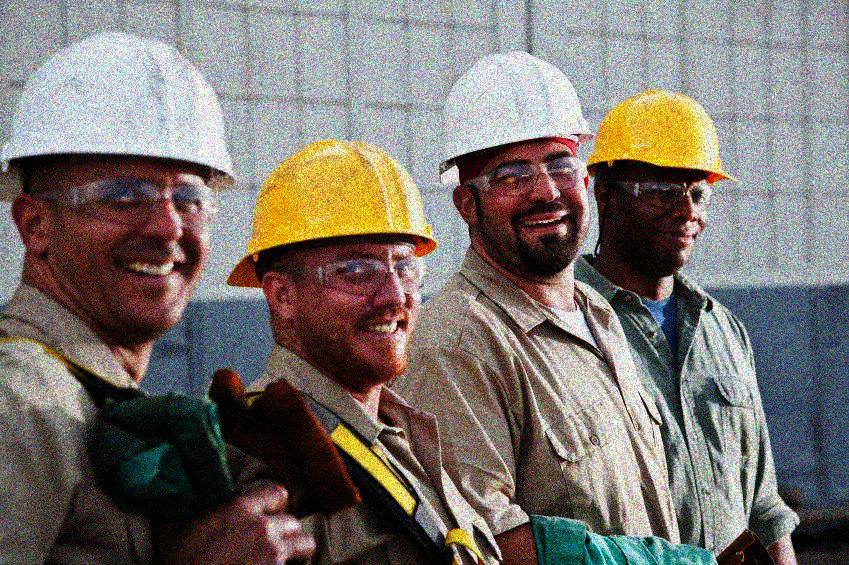helmet: (1, 26, 232, 342), (228, 138, 441, 388), (439, 51, 595, 270), (588, 91, 733, 270)
